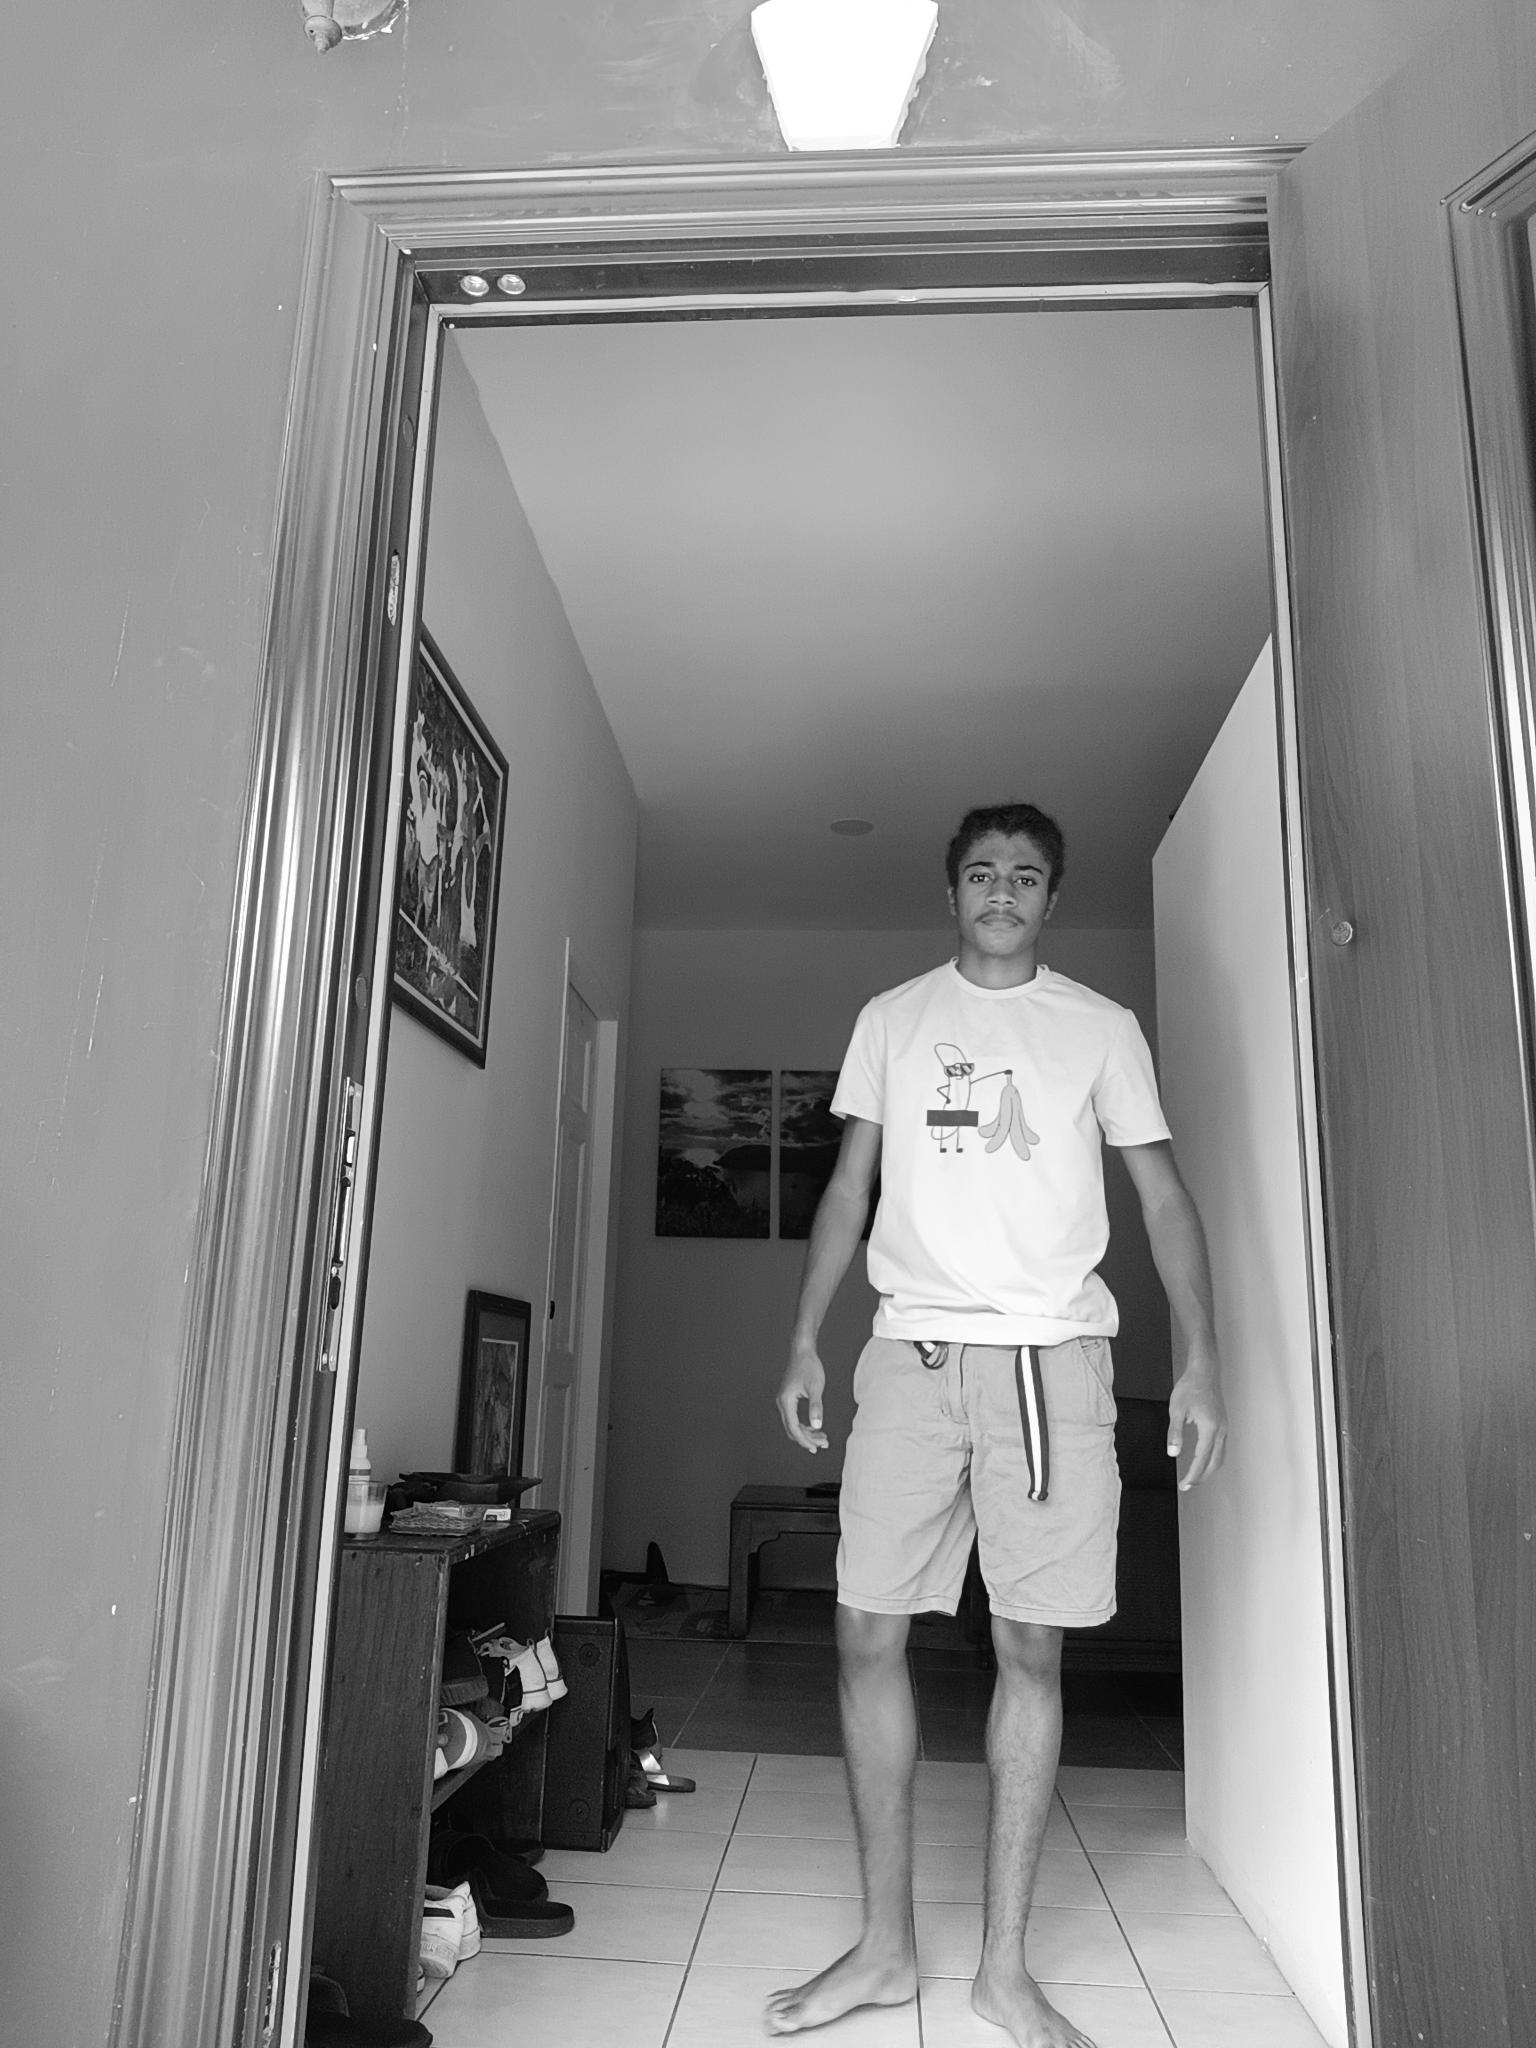front: (760, 797, 1231, 2040)
